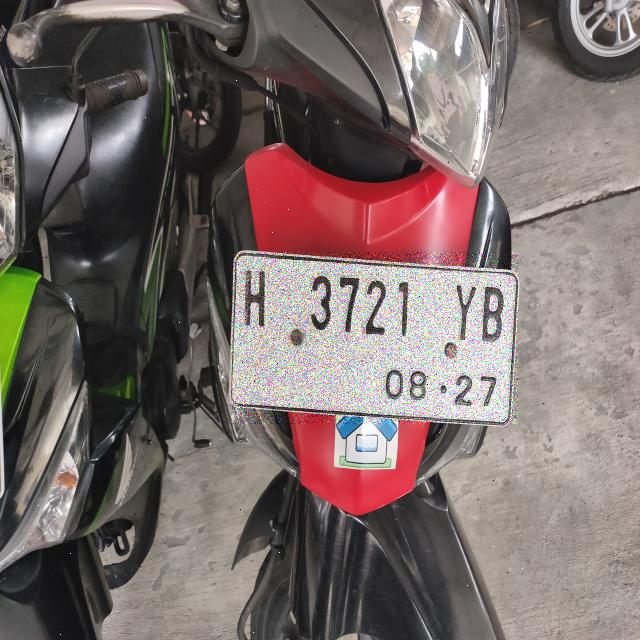plate: (231, 252, 517, 423)
